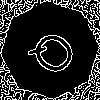Q: (25, 25, 88, 86)
